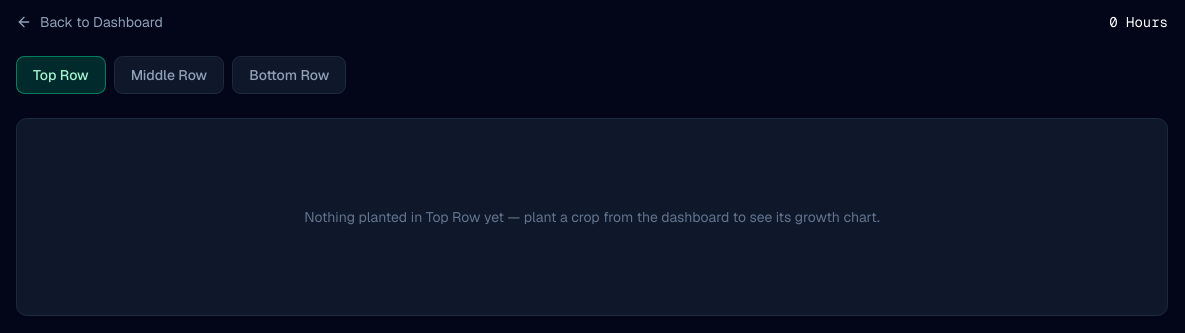
Scenario: SimulationChartPage - initial render › switching rows updates the empty-state message to match
This screenshot has width=1185, height=333.
Click the button "Middle Row".
click(169, 75)  # box x1=114 y1=56 x2=224 y2=94
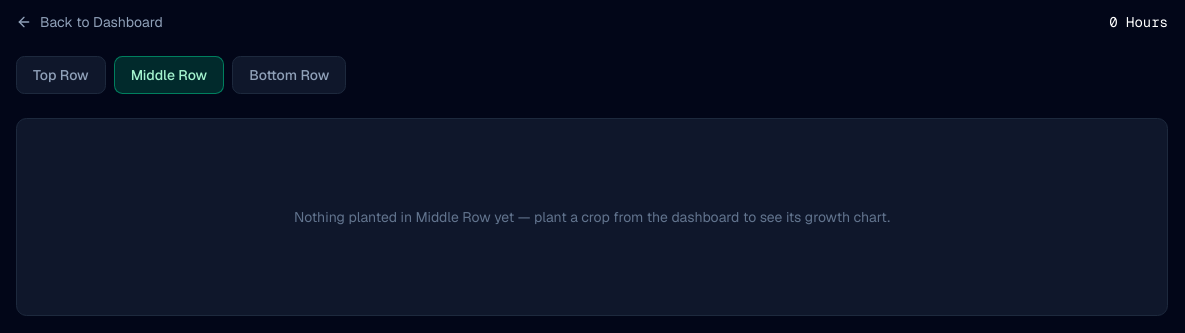
Check: the text "Nothing planted in Middle Row" is shown, box x1=294 y1=208 x2=890 y2=226
